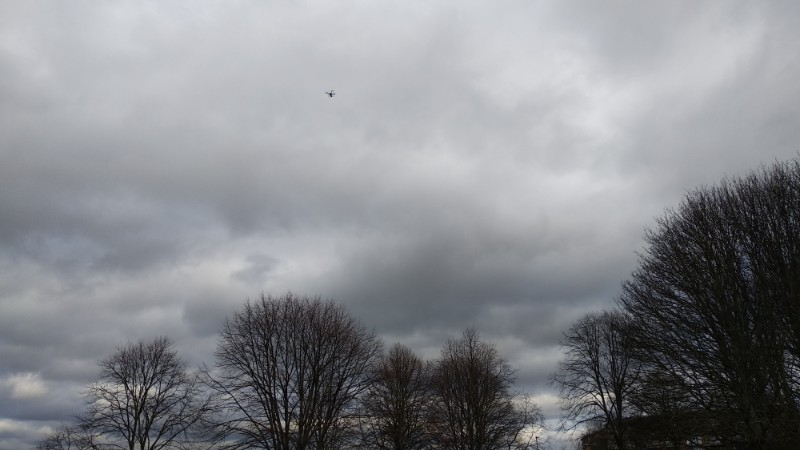drone: (324, 89, 336, 98)
